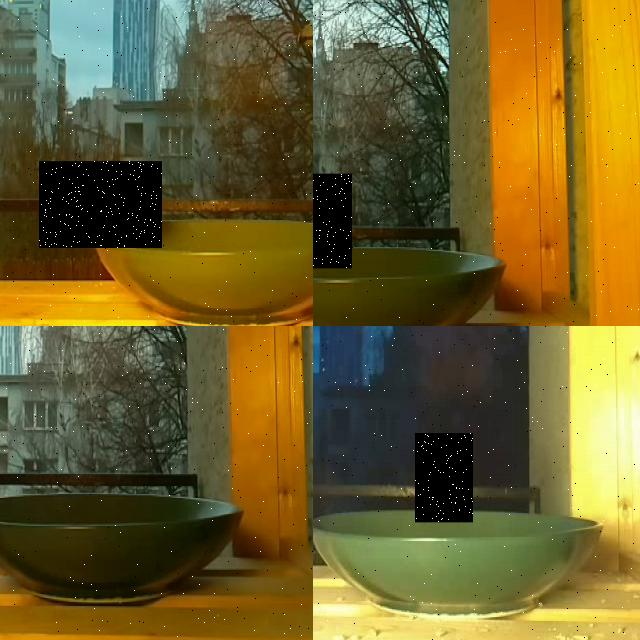Bogatka: (415, 433, 473, 522)
Modraszka: (313, 173, 352, 268)
Wrobel: (39, 161, 162, 248)
